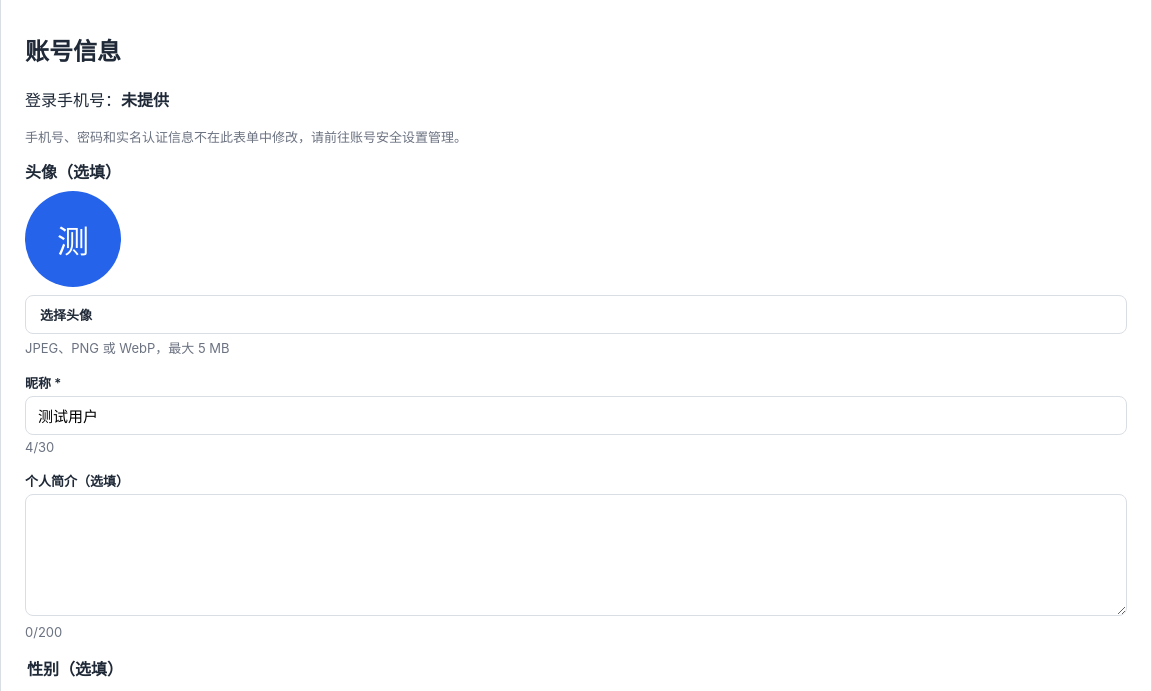
Test: ProfileForm resilience › compares a version conflict and can restore the local draft on the latest baseline
Replace the text in the field labelled "昵称 *" with "本地草稿" at (576, 415), box [25,396,1127,435]
(page scrolled)
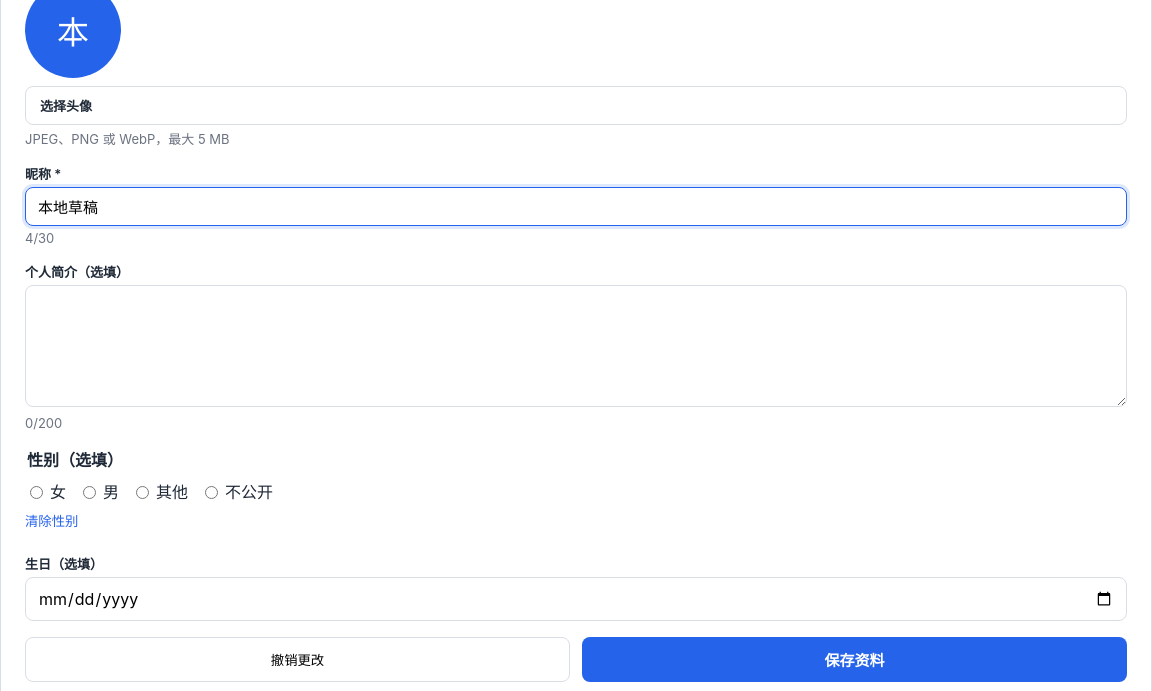
Click the button "保存资料" at (854, 659), box [582,637,1127,682]
(page scrolled)
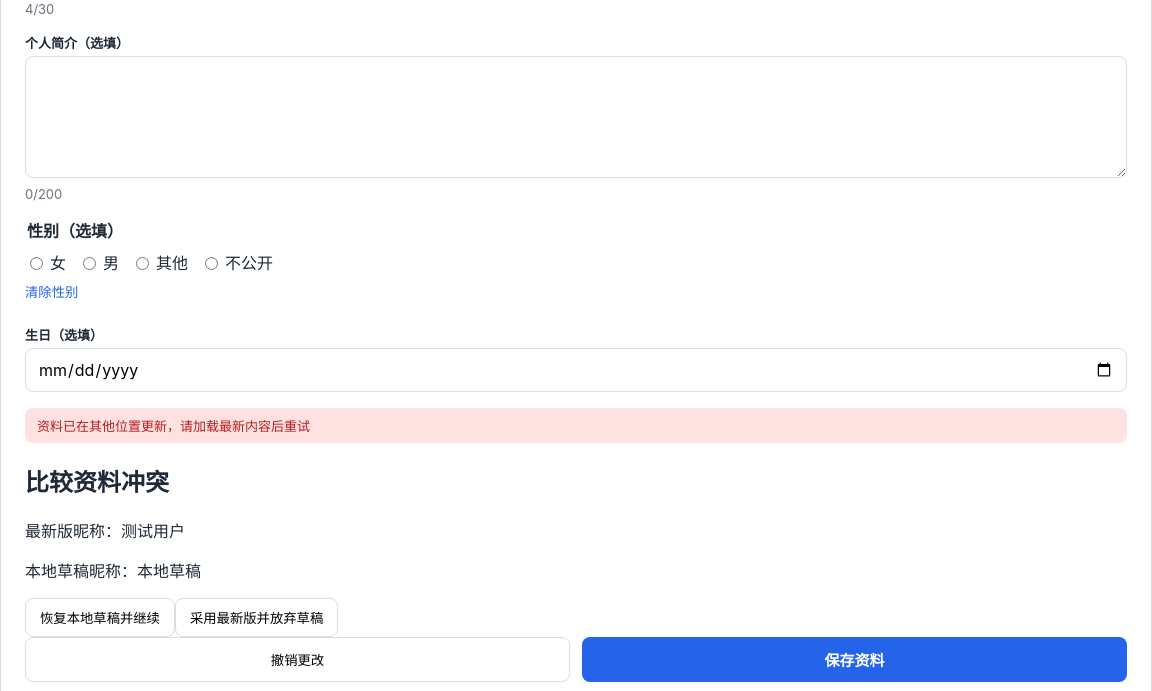
Expected: the heading "比较资料冲突" is shown, [25,468,169,497]
Click the button "恢复本地草稿并继续" at (100, 617), box [25,598,175,637]
(page scrolled)
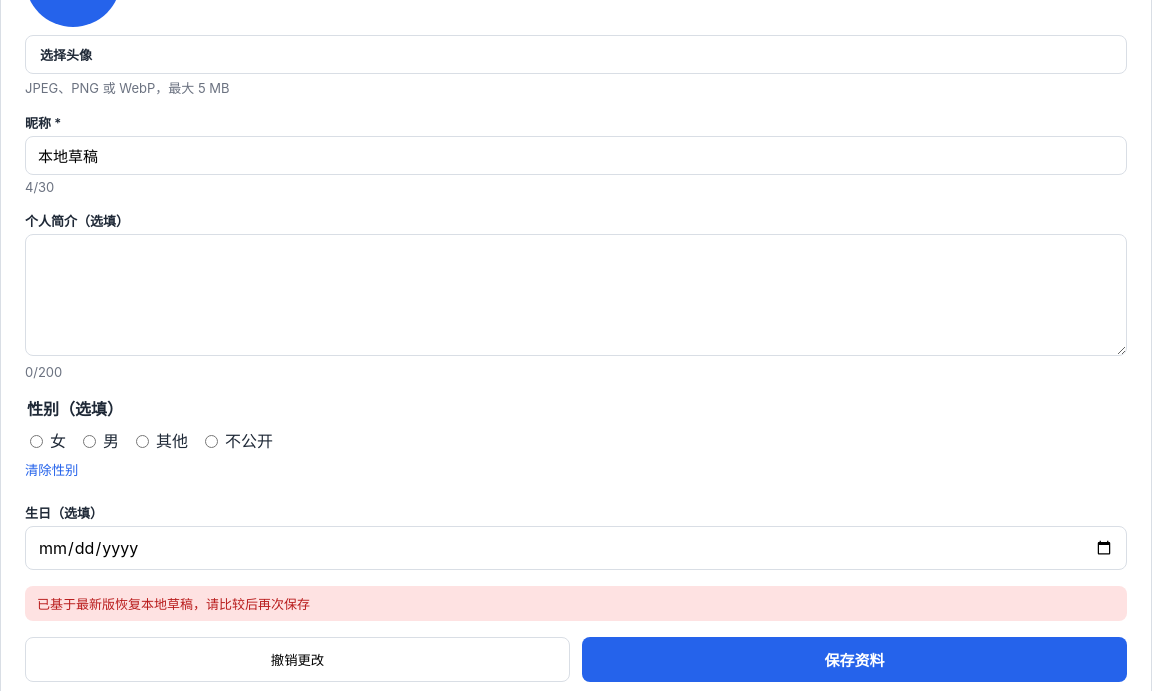
Expected: the button "保存资料" is enabled, [582,637,1127,682]
Expected: the text "已基于最新版恢复本地草稿，请比较后再次保存" is shown, [25,586,1127,621]
